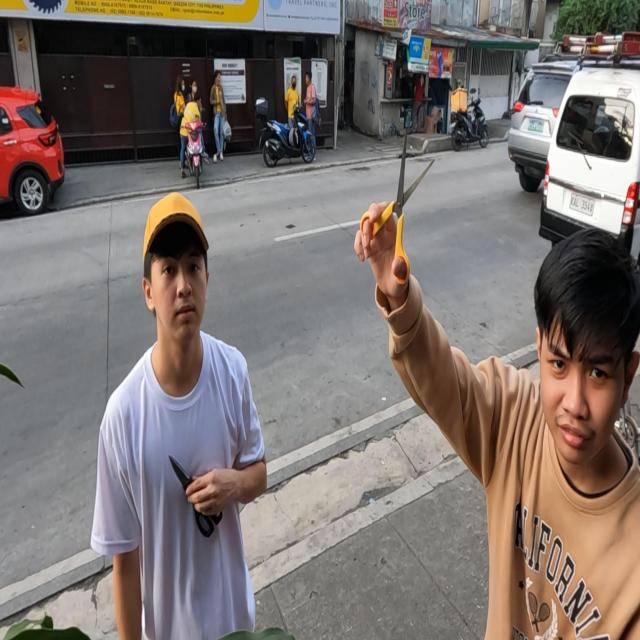scissor: (360, 126, 434, 285), (168, 453, 223, 538)
